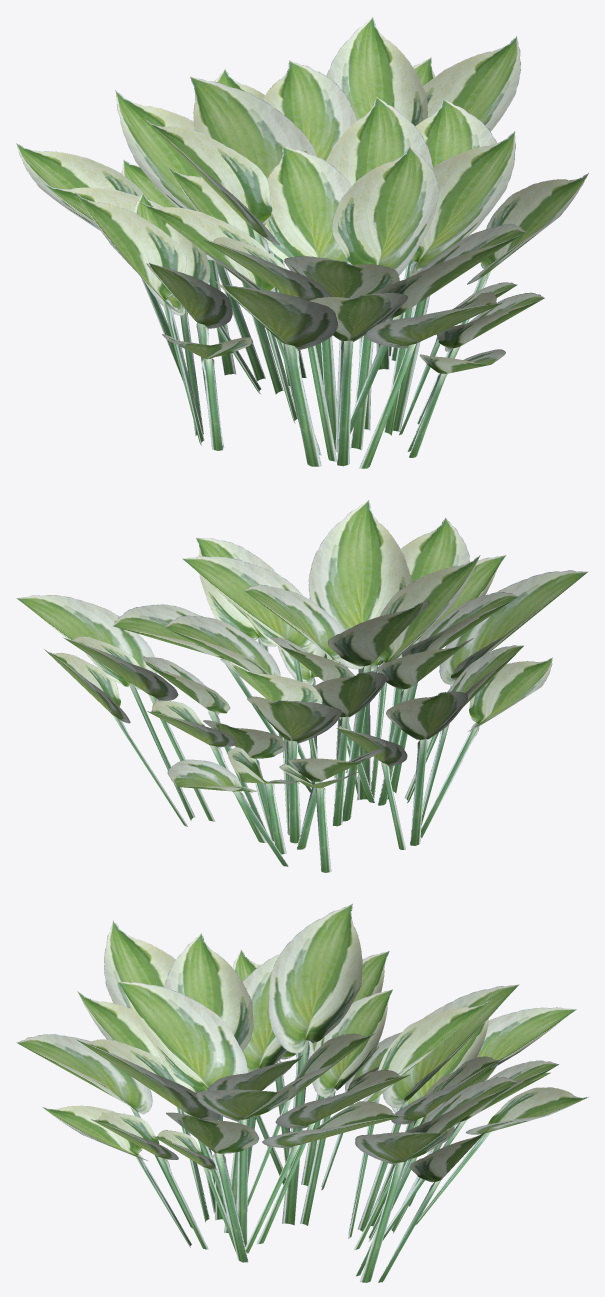
Rendered from plant_small_wg_02Z.fbx.
3 renders of one model, top to bottom at view 1: azimuth 30°, elevation 25°; view 2: azimuth 150°, elevation 25°; view 3: azimuth 270°, elevation 25°, orthographic. The views are drawn at different scales.
Parts seen in each view (by area): view 1: plant_small_wg_02Z; view 2: plant_small_wg_02Z; view 3: plant_small_wg_02Z.
Part boxes in pixels (left/top/right/bottom): plant_small_wg_02Z: left=16, top=17, right=588, bottom=468; plant_small_wg_02Z: left=16, top=500, right=588, bottom=872; plant_small_wg_02Z: left=16, top=903, right=588, bottom=1282.
Size of the model in its own units: 94.59 by 57.57 by 111.
